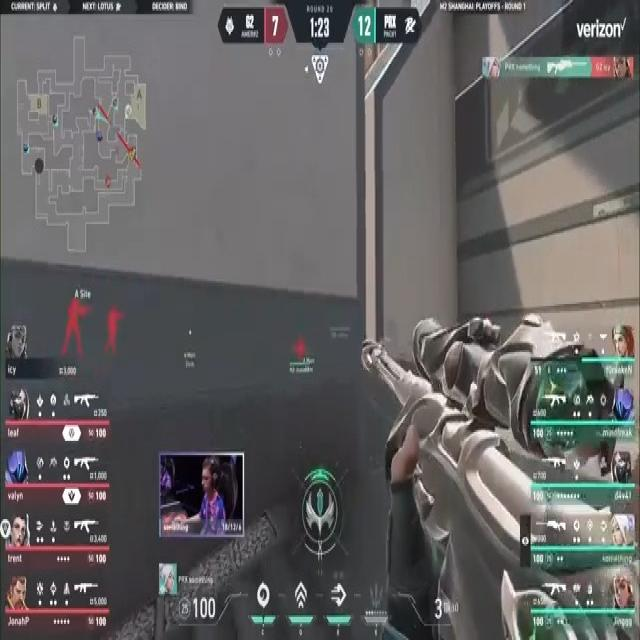enemy behind wall: (62, 295, 90, 355), (104, 304, 124, 358)
